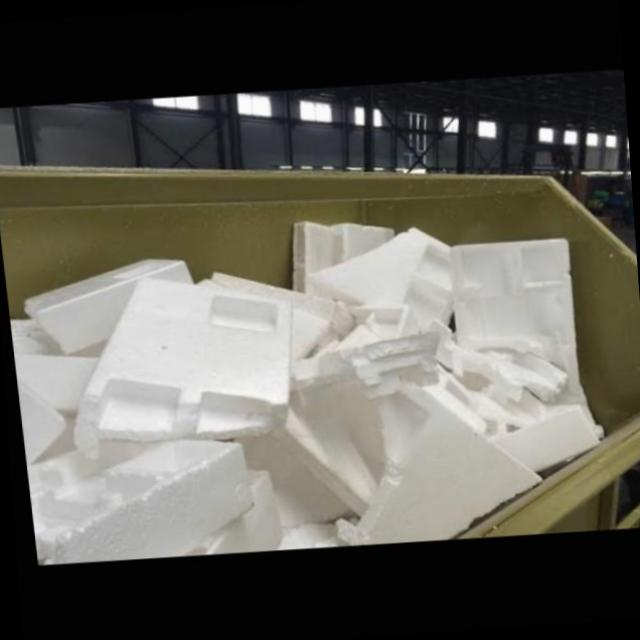xop: (68, 281, 288, 462), (335, 387, 536, 547), (23, 440, 248, 567), (447, 239, 578, 404), (238, 401, 381, 552), (210, 273, 447, 361), (21, 260, 191, 356), (303, 228, 451, 325), (7, 320, 104, 468), (420, 341, 563, 437), (288, 332, 438, 411), (484, 405, 601, 477), (289, 222, 392, 294)
